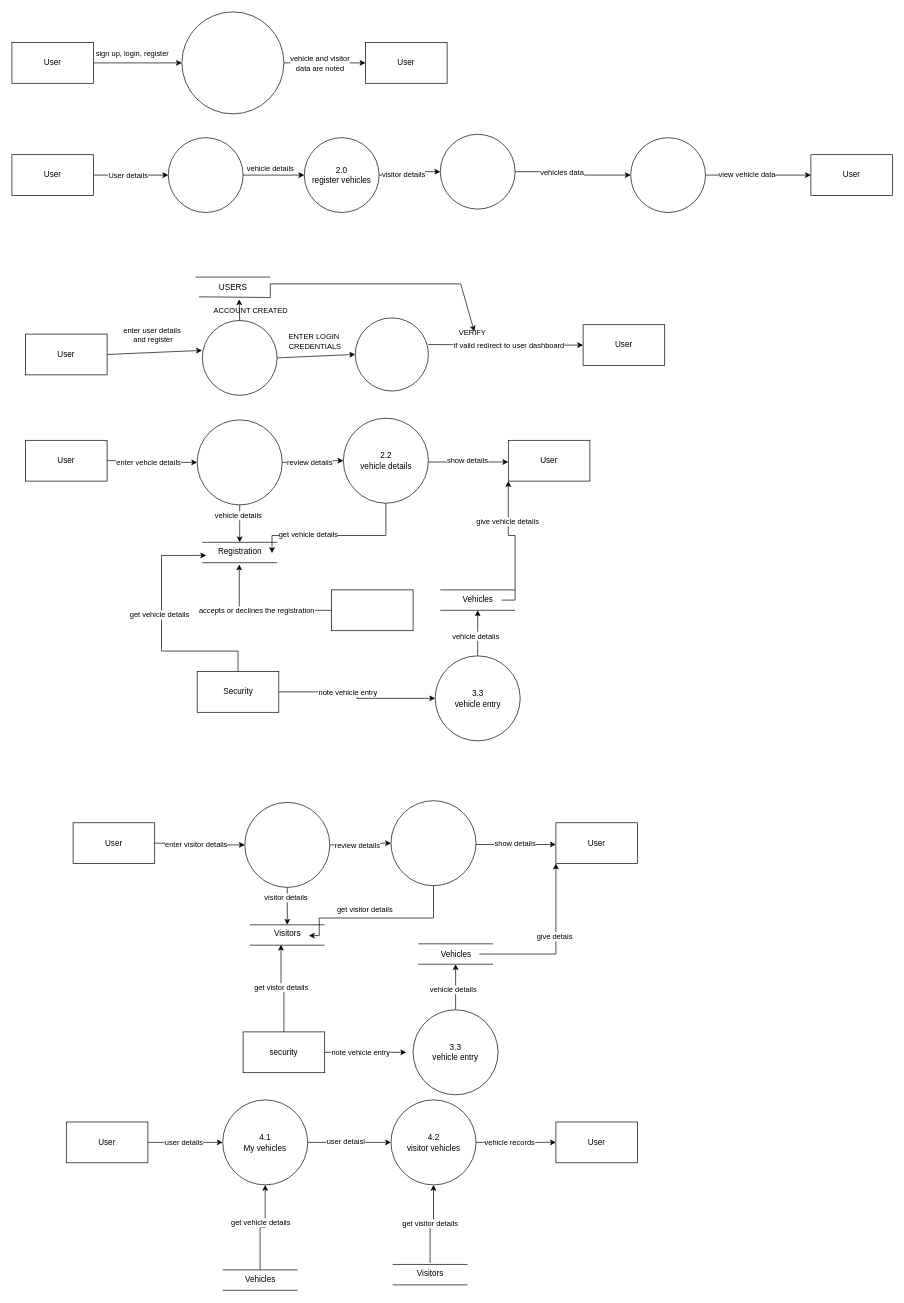
Some shapes in this 904 by 1303 pixel diagram are drawn without their labels. Each missing label, with the centre of its shape:
"0.0 Vehicle management system" belongs at (x=232, y=62).
"1.0 USER SIGN IN/UP" belongs at (x=205, y=175).
"1.1 USER SIGN UP" belongs at (x=239, y=357).
"1.2 USER SIGN IN" belongs at (x=391, y=354).
"2.1 vehicle registration" belongs at (x=239, y=462).
"3.0 visitor form" belongs at (x=477, y=171).
"3.1 vistor from" belongs at (x=287, y=844).
"3.2 review visitor details" belongs at (x=433, y=843).
"4.0 vehicle details" belongs at (x=668, y=175).
"Admin" belongs at (x=372, y=610).
